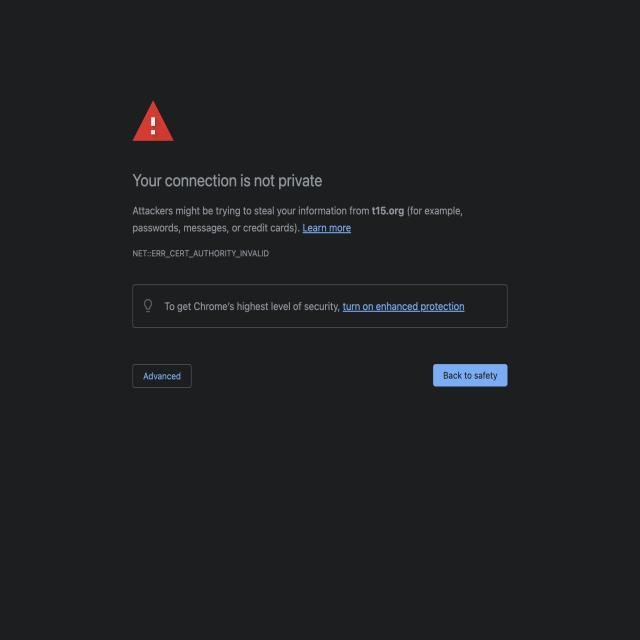button: (430, 360, 510, 388), (132, 362, 194, 392)
link: (342, 298, 471, 316), (301, 221, 361, 237)
